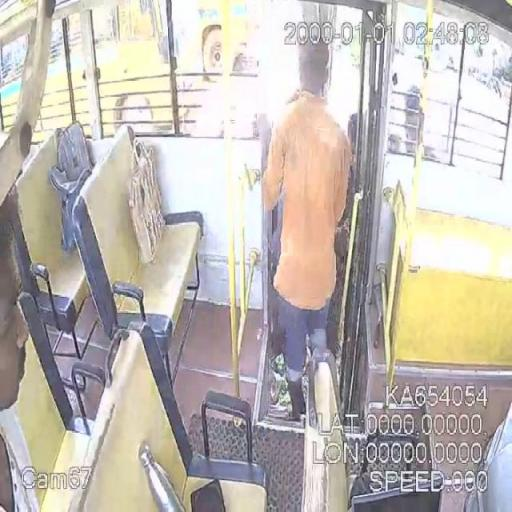persona: (259, 40, 354, 422)
